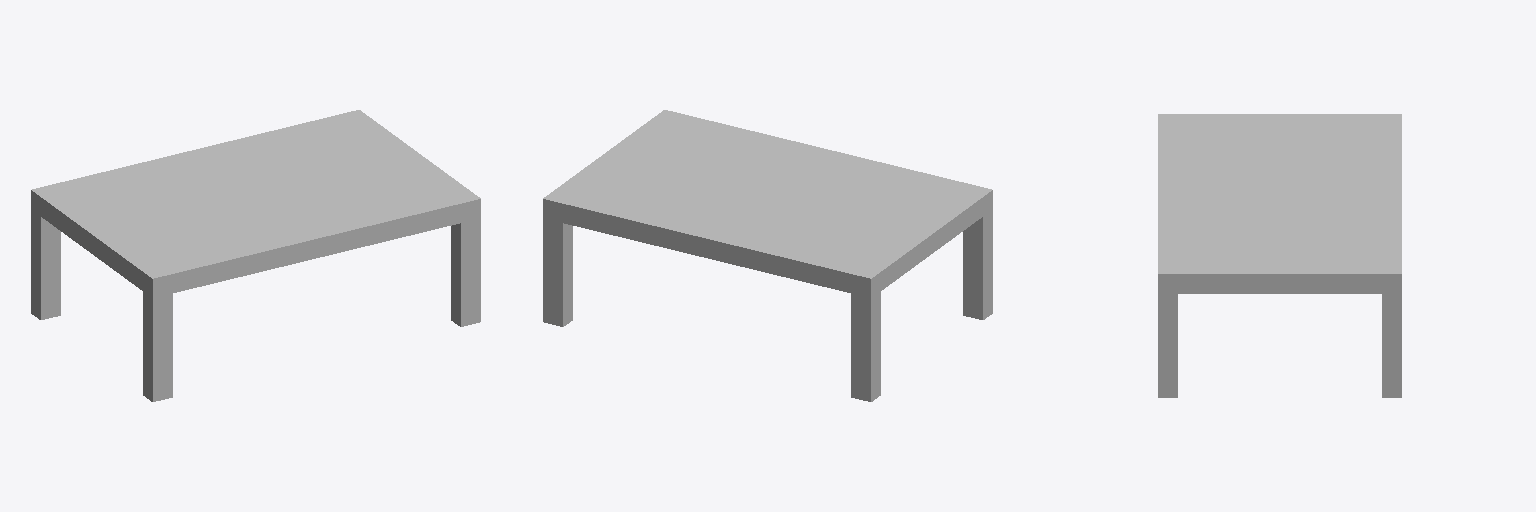
File: mesa final.obj
The picture shows the model from 3 angles: view 1: azimuth 30°, elevation 25°; view 2: azimuth 150°, elevation 25°; view 3: azimuth 270°, elevation 25°; orthographic projection.
Parts seen in each view (by area): view 1: Cube_Cube.001; view 2: Cube_Cube.001; view 3: Cube_Cube.001.
Part boxes in pixels (bbox=[...]): Cube_Cube.001: bbox=[31, 110, 480, 401]; Cube_Cube.001: bbox=[543, 110, 992, 401]; Cube_Cube.001: bbox=[1158, 114, 1401, 397].
Size of the model in its own units: 5.73 by 2.06 by 3.68.